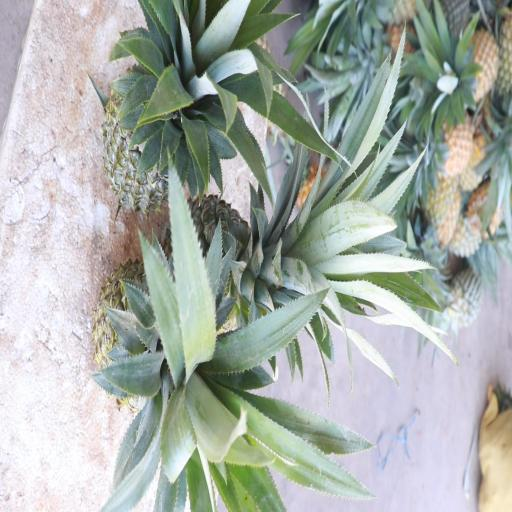------------------------------: (93, 245, 252, 411)
Pineapple - v8 v1: (451, 24, 502, 104), (429, 106, 476, 180)
